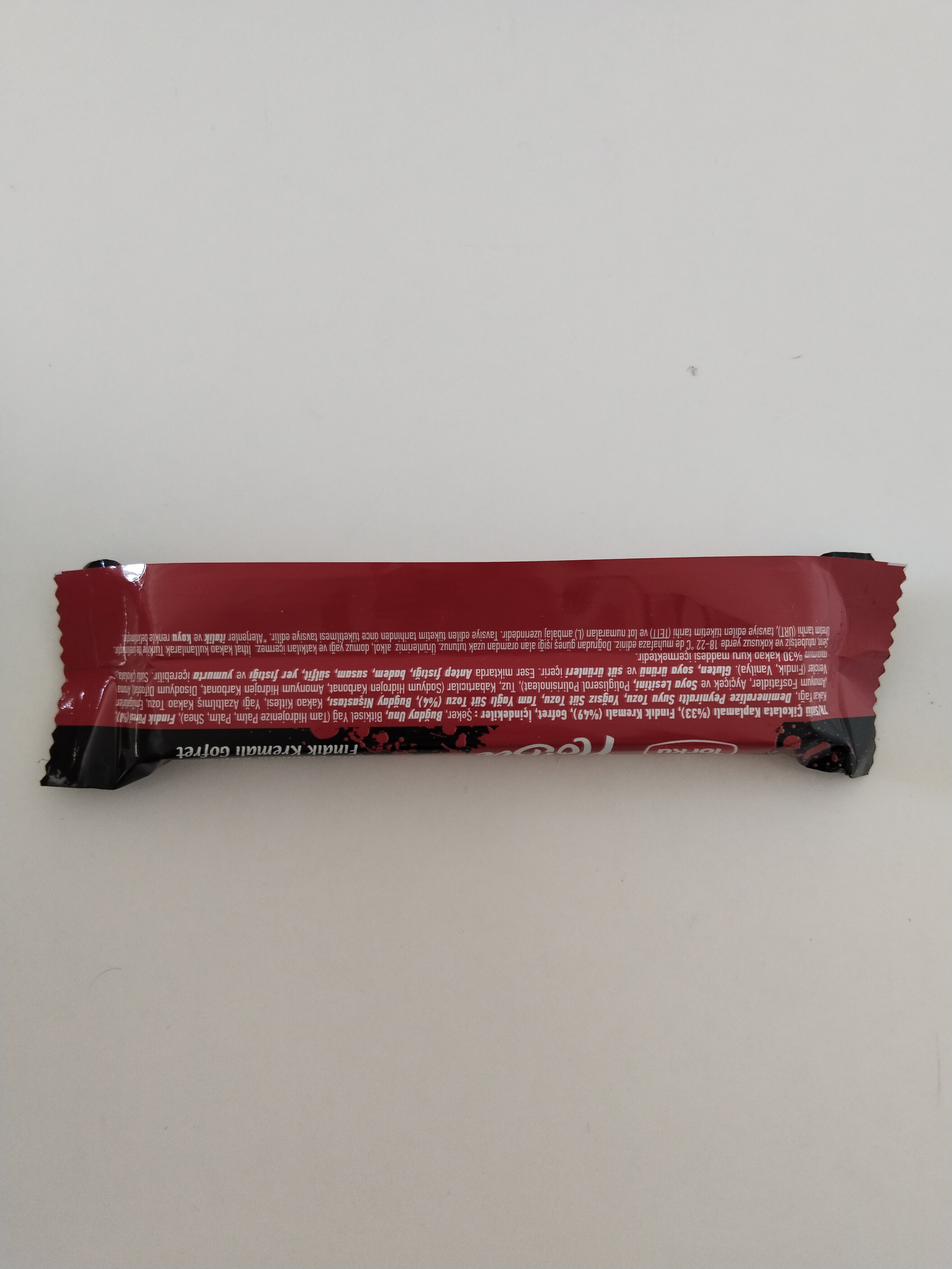torku_nobir_gofret: (50, 555, 916, 792)
